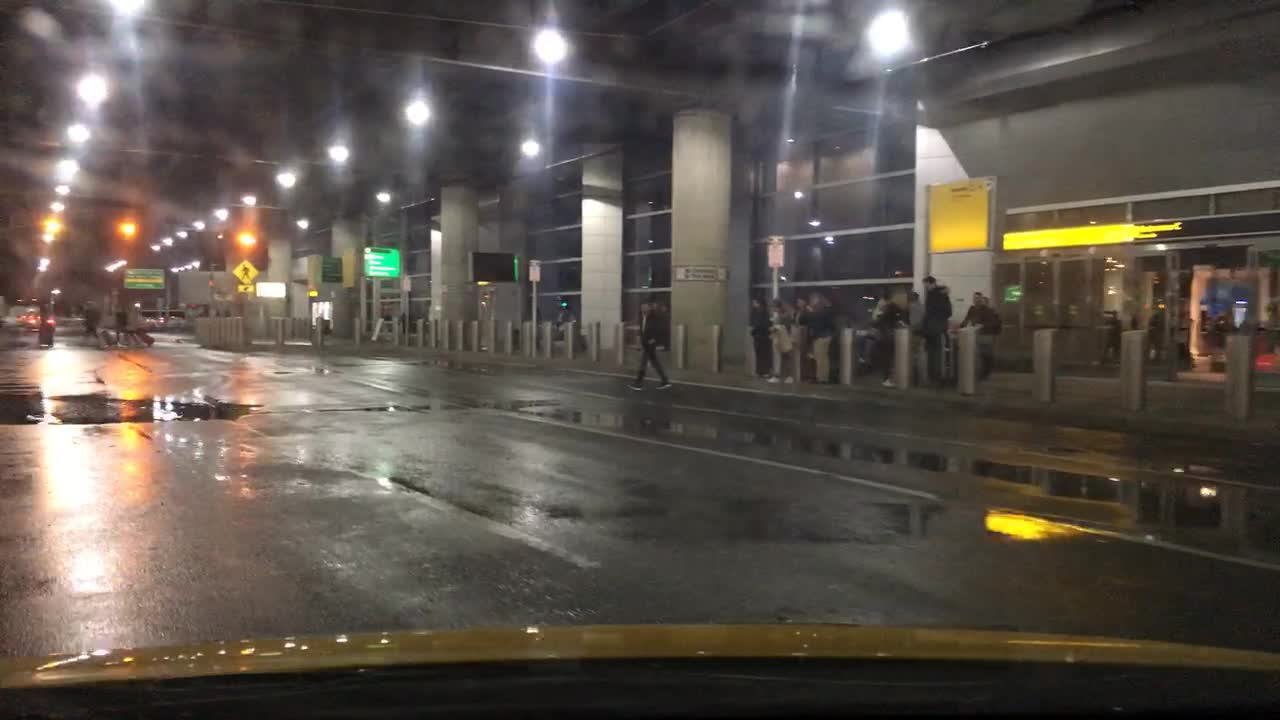bus: (139, 310, 187, 330)
car: (17, 305, 37, 324)
person: (621, 299, 672, 392), (917, 275, 952, 387), (960, 282, 994, 371), (807, 289, 838, 384), (875, 296, 901, 387), (749, 294, 772, 377), (775, 300, 796, 380), (79, 296, 102, 343), (109, 301, 133, 345), (983, 294, 1002, 338), (1111, 296, 1119, 356), (36, 300, 50, 328), (1153, 307, 1161, 354), (394, 308, 404, 331), (1132, 310, 1140, 331)
traffic light: (123, 210, 139, 249), (48, 202, 62, 245), (242, 216, 256, 252), (553, 298, 569, 312), (205, 273, 214, 293)
traffic sign: (362, 244, 400, 280), (126, 266, 163, 291), (319, 252, 341, 287), (672, 265, 721, 280), (230, 259, 256, 280), (768, 233, 782, 272), (527, 259, 541, 289), (1008, 282, 1023, 309), (237, 286, 254, 293), (303, 290, 319, 297)
